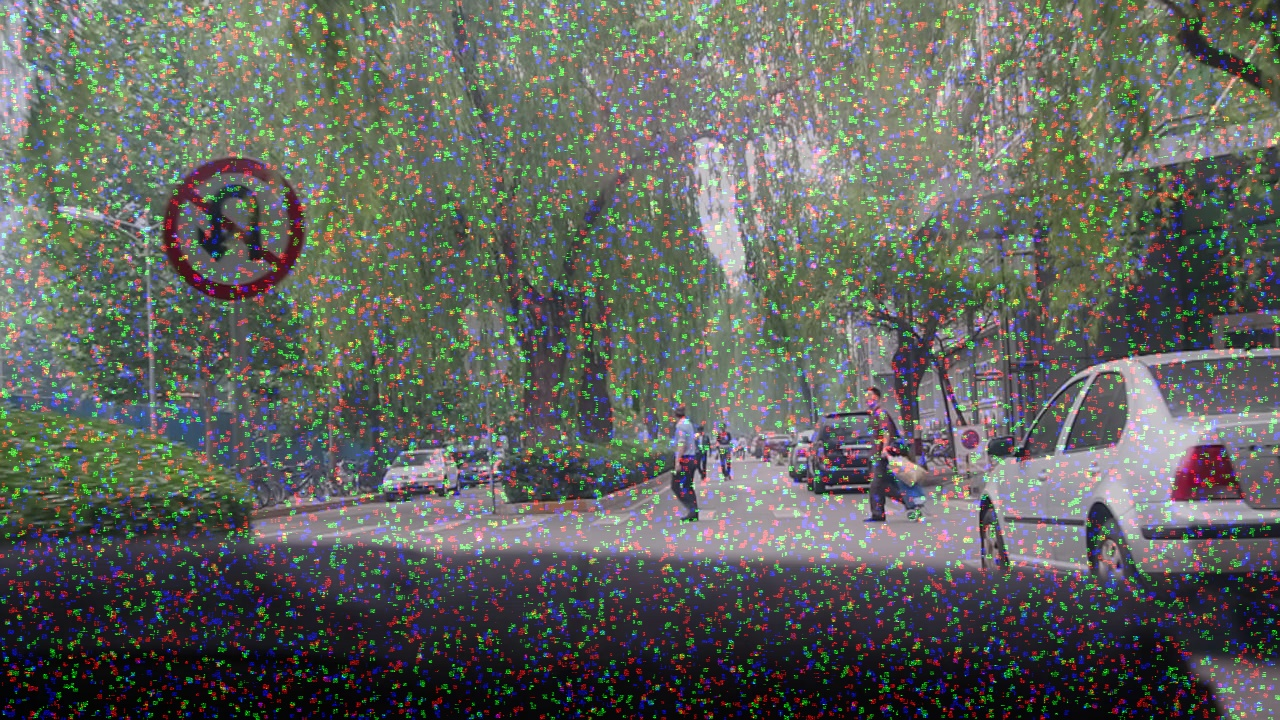Prohibitory Signs: (160, 155, 308, 303), (959, 428, 981, 451)
